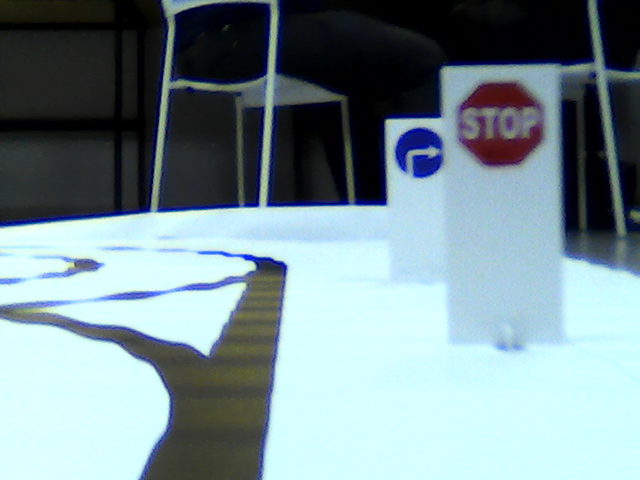Right: (397, 126, 442, 180)
Stop: (454, 81, 546, 167)
